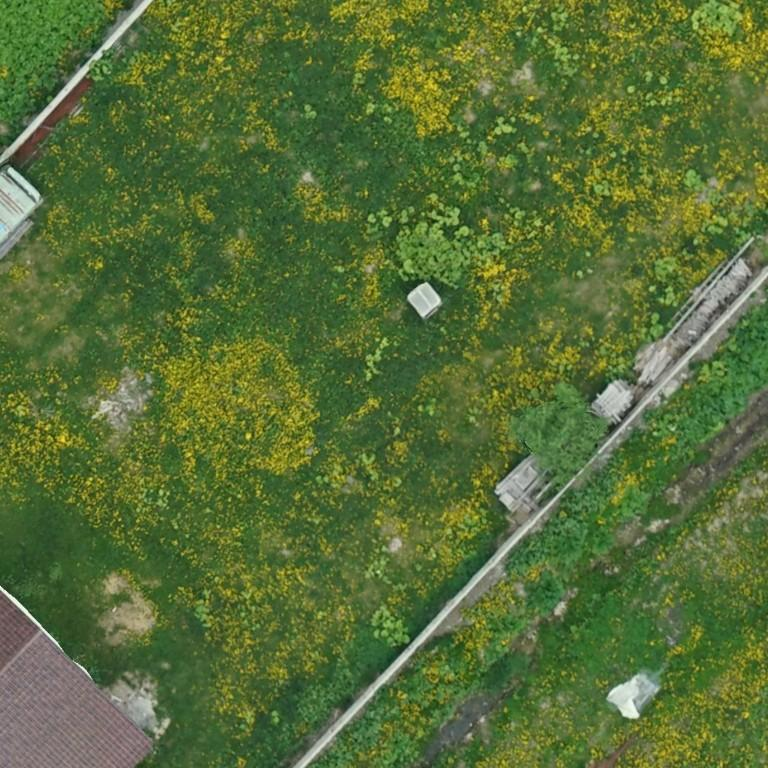hogweed: (0, 0, 111, 125), (678, 309, 767, 453), (505, 519, 584, 568), (563, 476, 613, 516), (524, 572, 562, 612)
